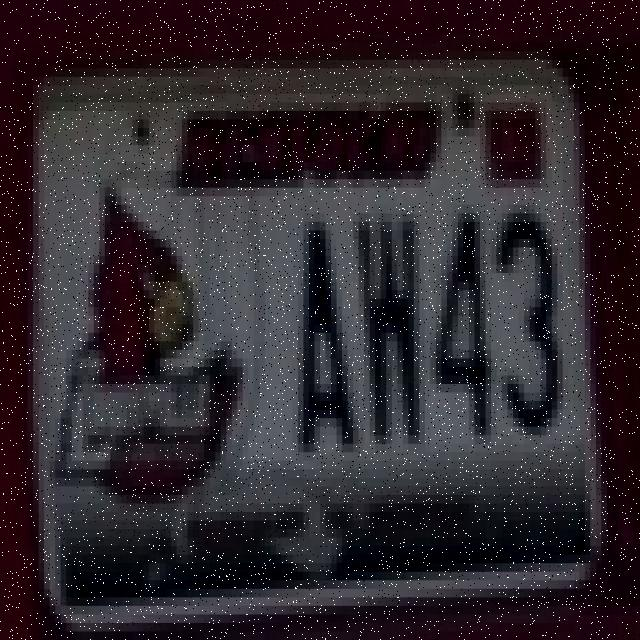licenseplate: (18, 29, 610, 608)
